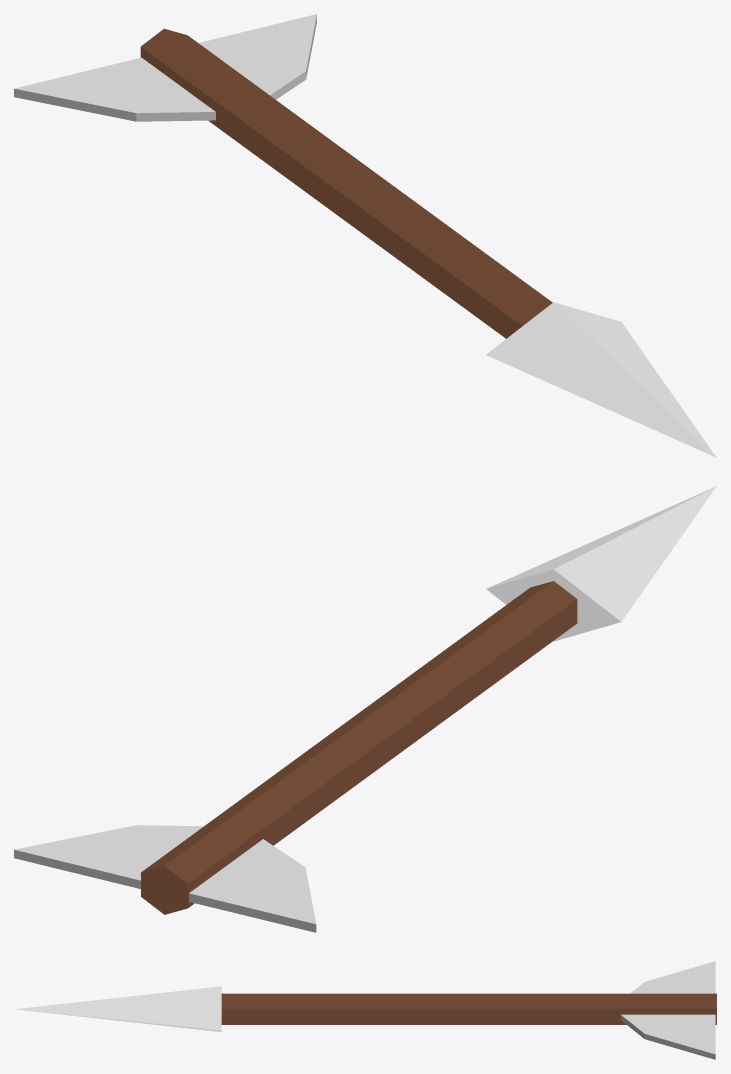
File: HuntersMark.glb
3 views of the same model, one above another, from view 1: azimuth 30°, elevation 25°; view 2: azimuth 150°, elevation 25°; view 3: azimuth 270°, elevation 25° (orthographic). The views are drawn at different scales.
Visible parts, largest first — view 1: Rod, Head, Cube, Cube.001; view 2: Rod, Head, Cube, Cube.001; view 3: Rod, Head, Cube.001, Cube.
Part boxes in pixels (x1,y1,x2,y2): Rod: (140, 28, 552, 338); Head: (486, 302, 716, 457); Cube: (14, 57, 215, 121); Cube.001: (198, 14, 316, 99); Rod: (141, 581, 577, 914); Head: (486, 486, 716, 641); Cube: (189, 839, 316, 932); Cube.001: (14, 825, 203, 888); Rod: (221, 993, 716, 1024); Head: (15, 986, 221, 1032); Cube.001: (621, 1014, 715, 1059); Cube: (630, 961, 715, 993).
Size of the model in its own units: 0.9087 by 0.2072 by 2.87.
2 materials, 2 textured.
